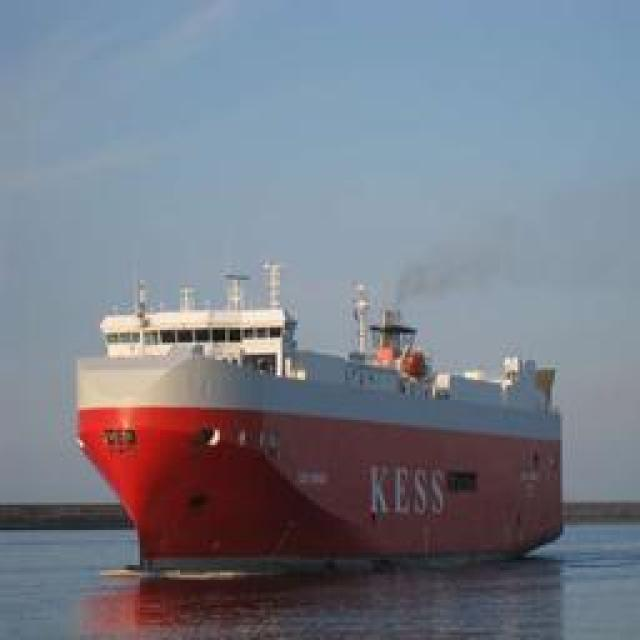ship2: (74, 263, 565, 576)
